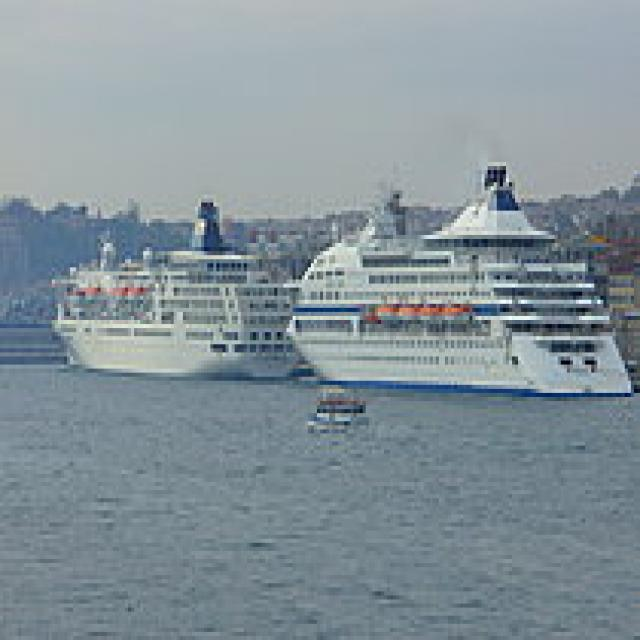Ship: (278, 155, 640, 410), (34, 191, 315, 394)
